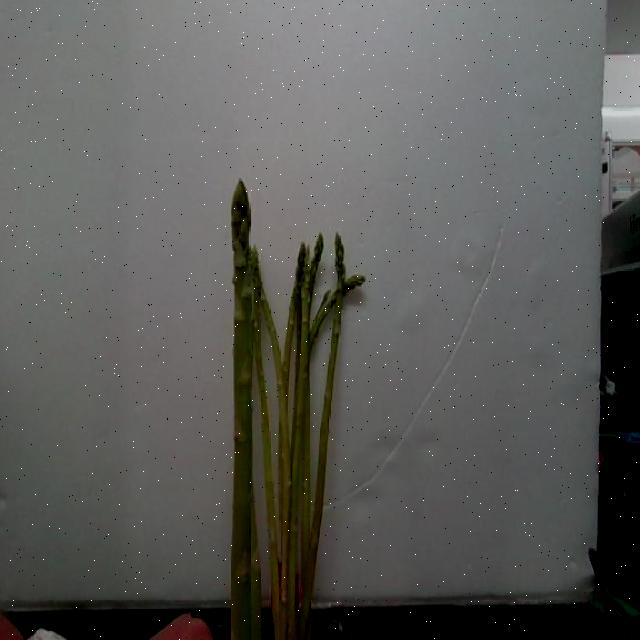aspargus: (299, 232, 347, 640), (230, 181, 261, 640)
